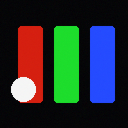2 circle: (11, 77, 35, 101)
